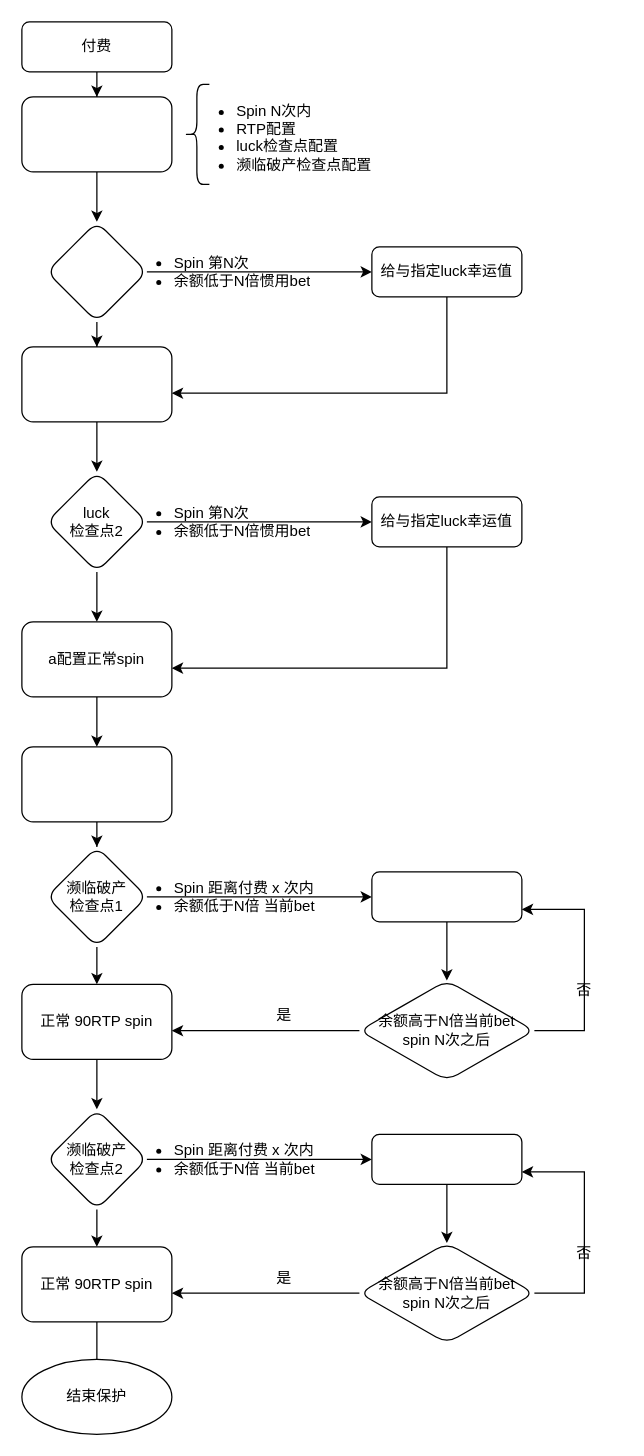
This 644x1456 diagram has some shape labels left out. The shapes that lost their labels are listed below. From the top down, each one's centre as x and y in pixels, then its label:
pixel 96 134: 根据RFM分层确认 滚轮配置 a
pixel 96 271: luck 检查点1
pixel 96 384: a滚轮配置spin
pixel 96 784: RTP配置衰减到90%配置spin
pixel 446 896: 使用rtp配比轮子1 spin N次
pixel 446 1158: 使用rtp配比轮子2 spin N次
